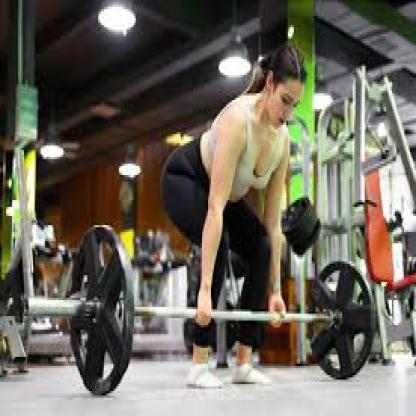barbell: (23, 223, 380, 400)
